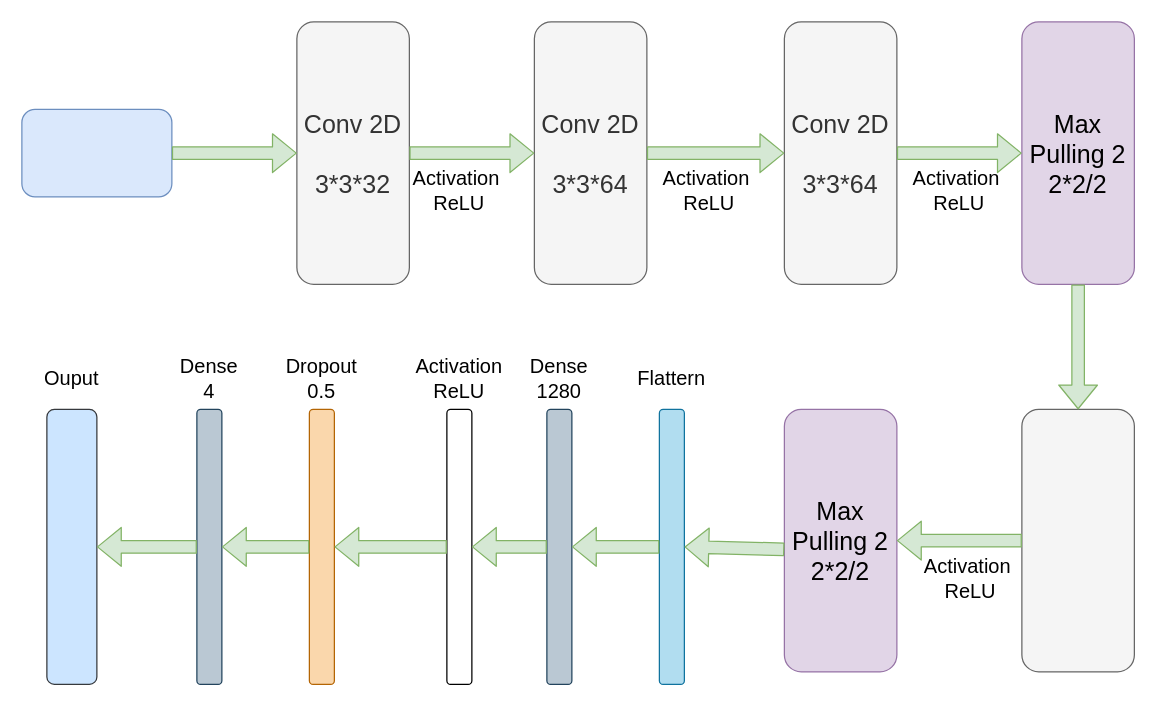
This 1156x706 diagram has some shape labels left out. Here are the shapes that lost their labels. From the top down, the centre of each, then its label:
(96,152): Input 150*150*3
(1077,540): Conv 2D 3*3*128
